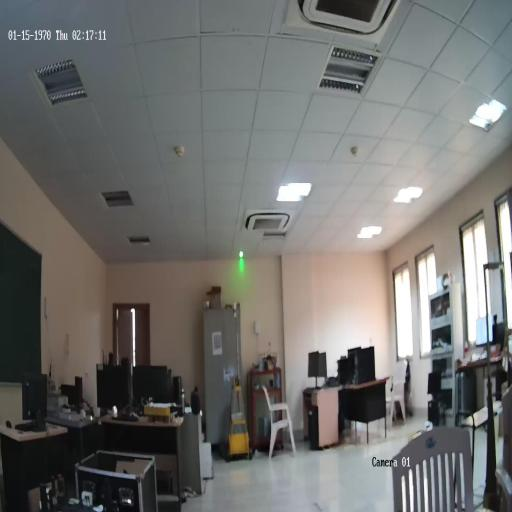laser: (238, 250, 244, 258)
